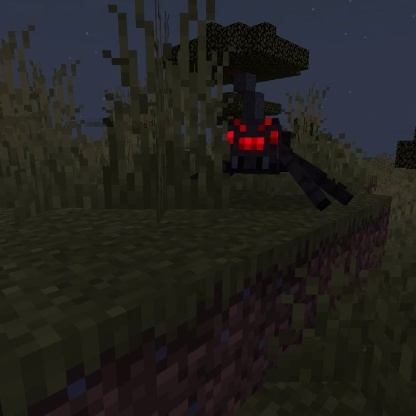spider: (214, 112, 356, 214)
